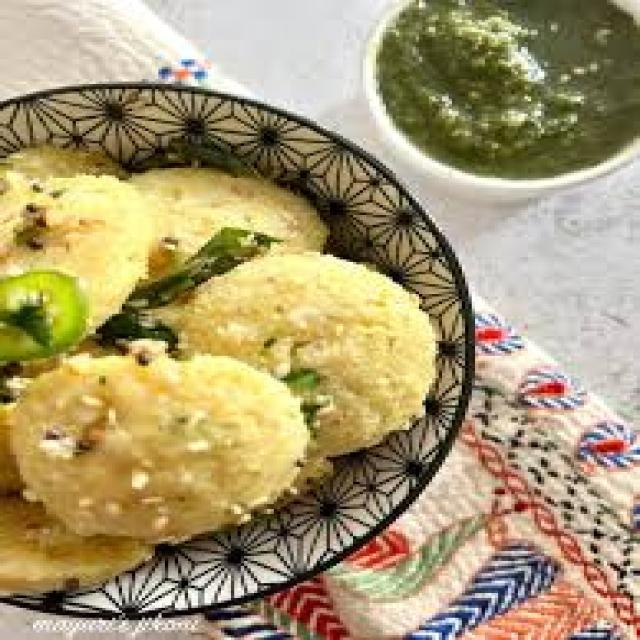IDLI: (5, 347, 308, 536), (166, 251, 433, 453), (109, 173, 320, 301), (4, 175, 149, 347)
